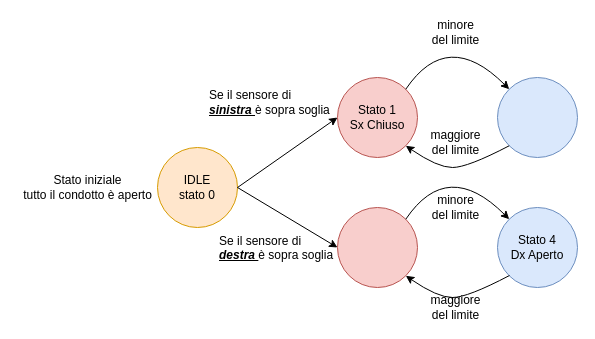
Image size: 595x339. Some labels were removed from this diagram. Here are the shapes that lost their labels. From the top down, the box of each, then its label:
(496, 76, 578, 158): Stato 3 Sx Aperto
(336, 206, 418, 288): Stato 2 Dx Chiuso
